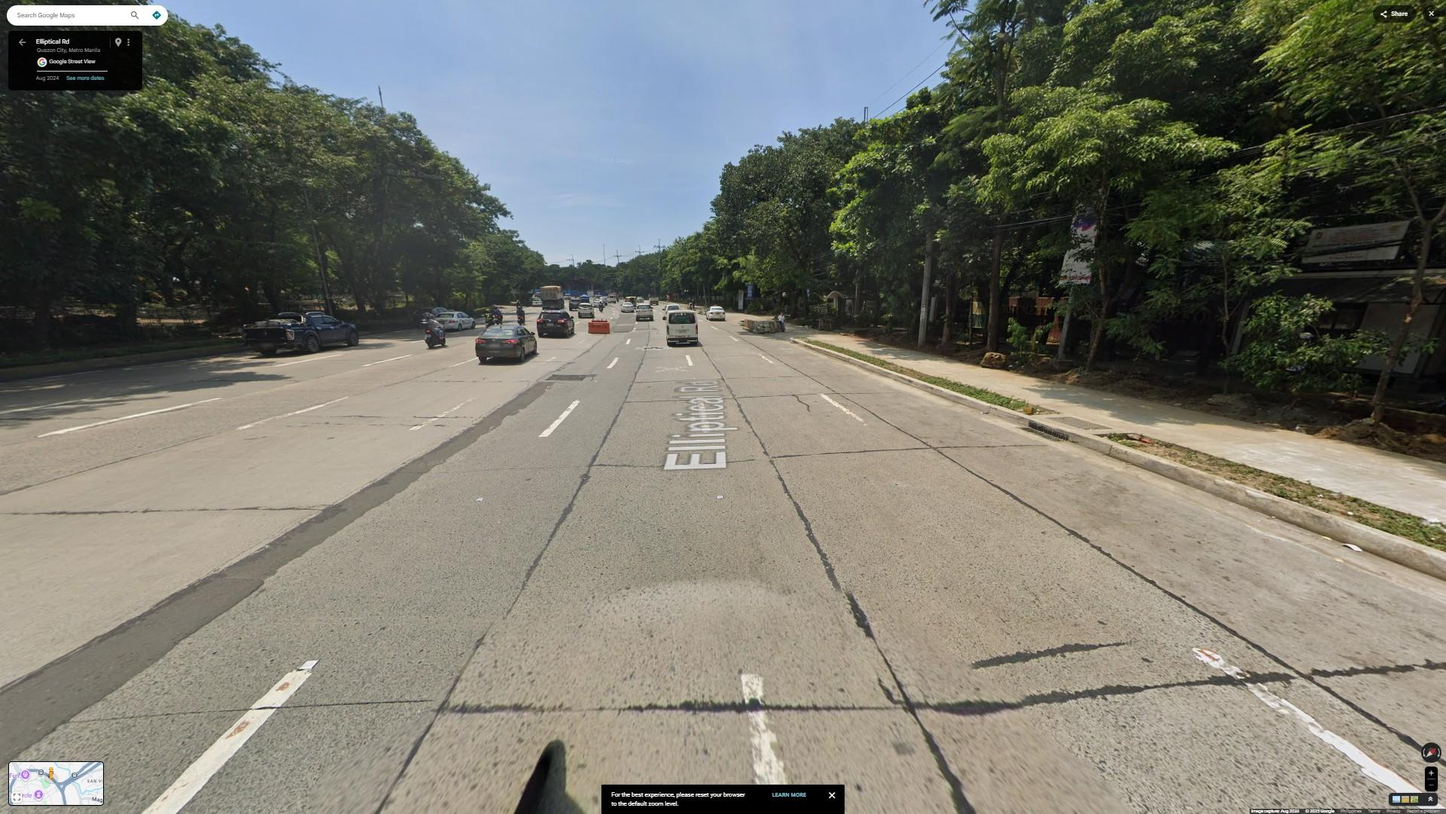pedestrian: (777, 311, 786, 333), (691, 298, 696, 311)
